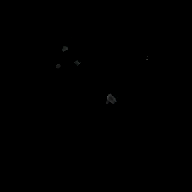v: (52, 44, 81, 68)
